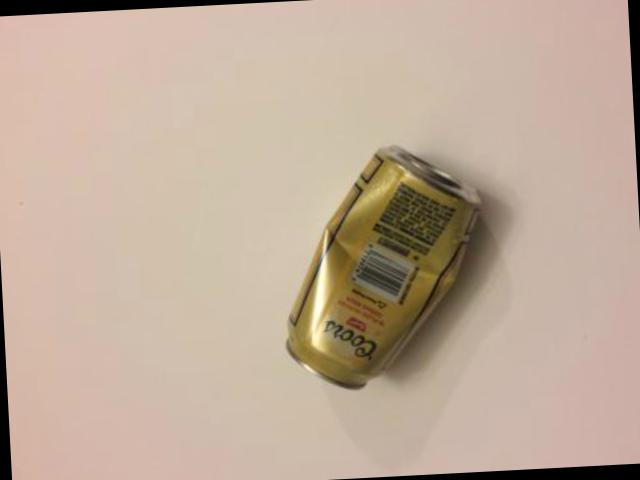metal: (285, 145, 478, 385)
